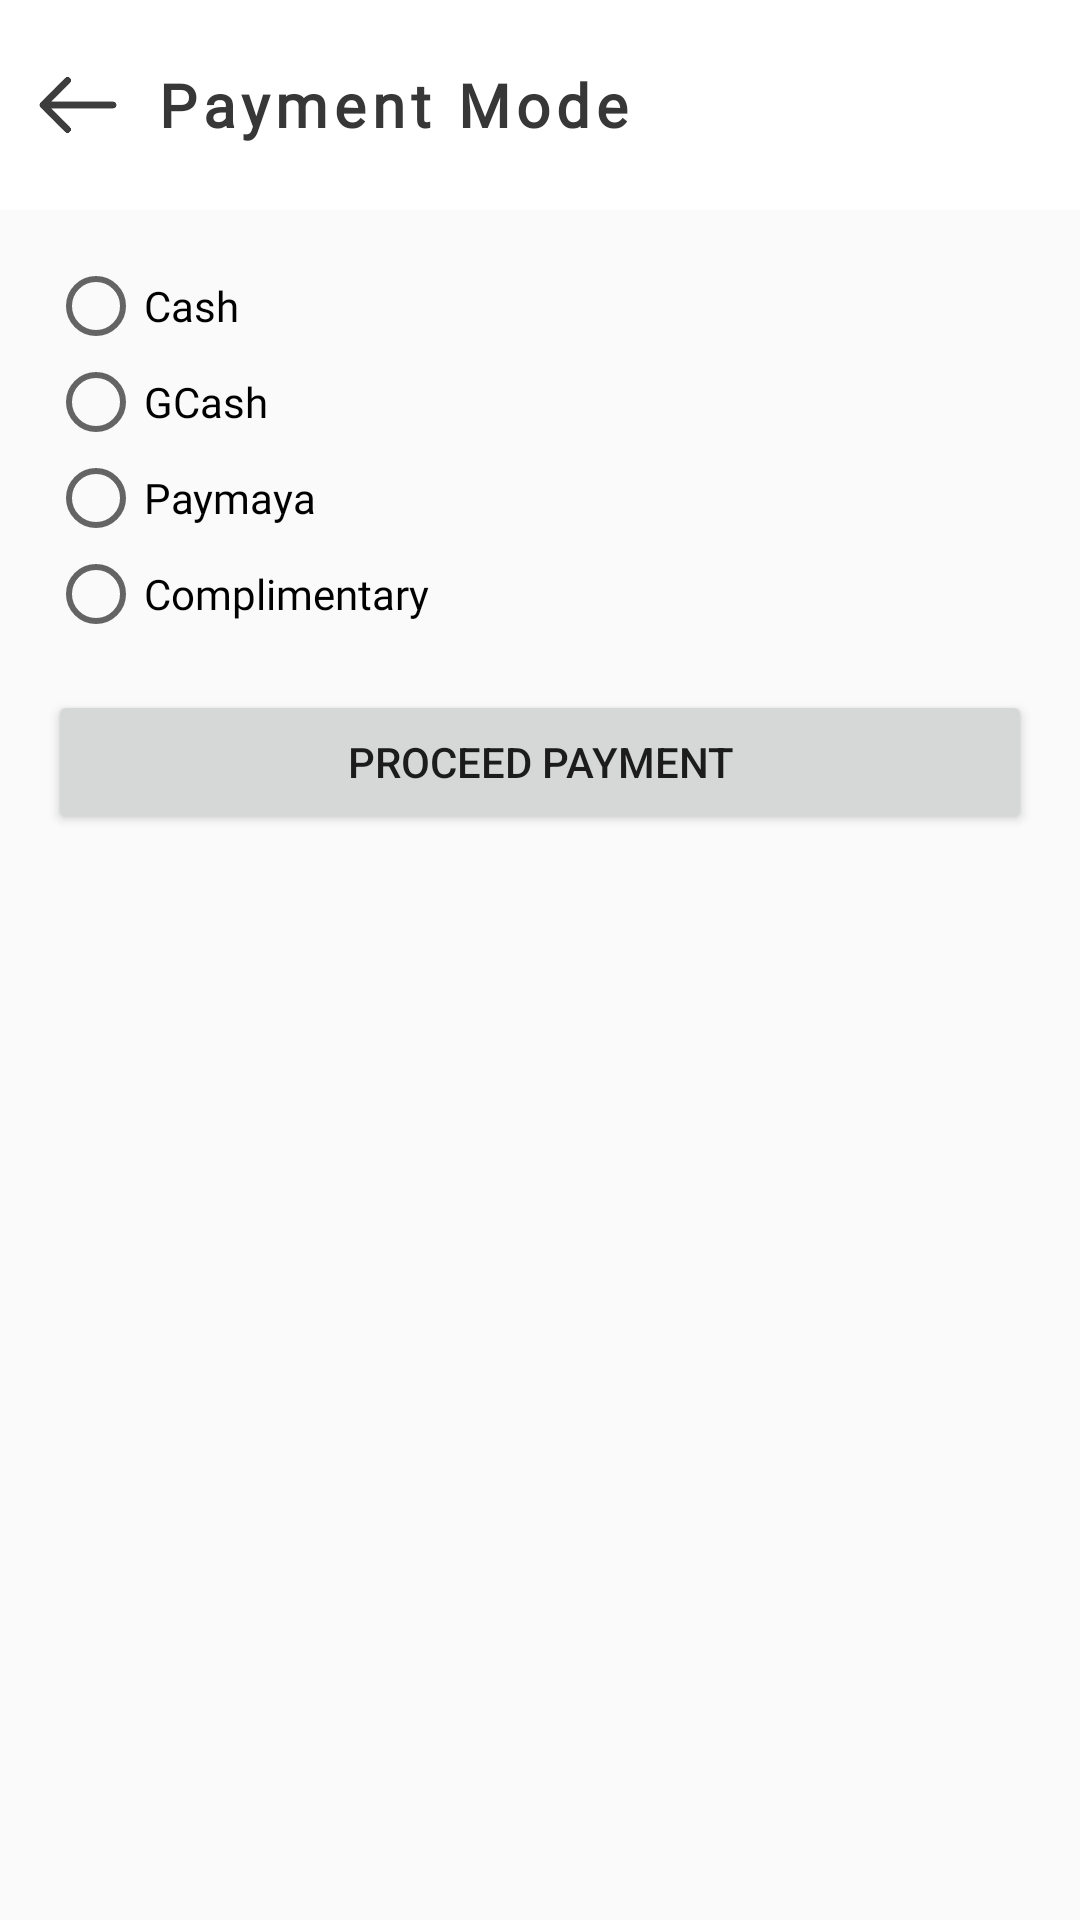

Where to tap for icons on this 1080 x 1920 app screen, as [x,y]:
back: [78,105]
